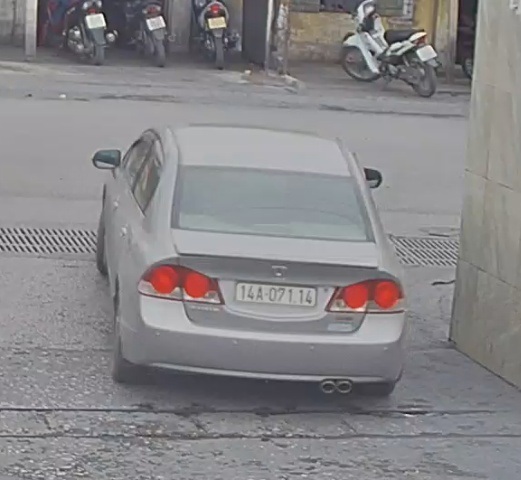vehicle plate: (233, 274, 321, 309)
